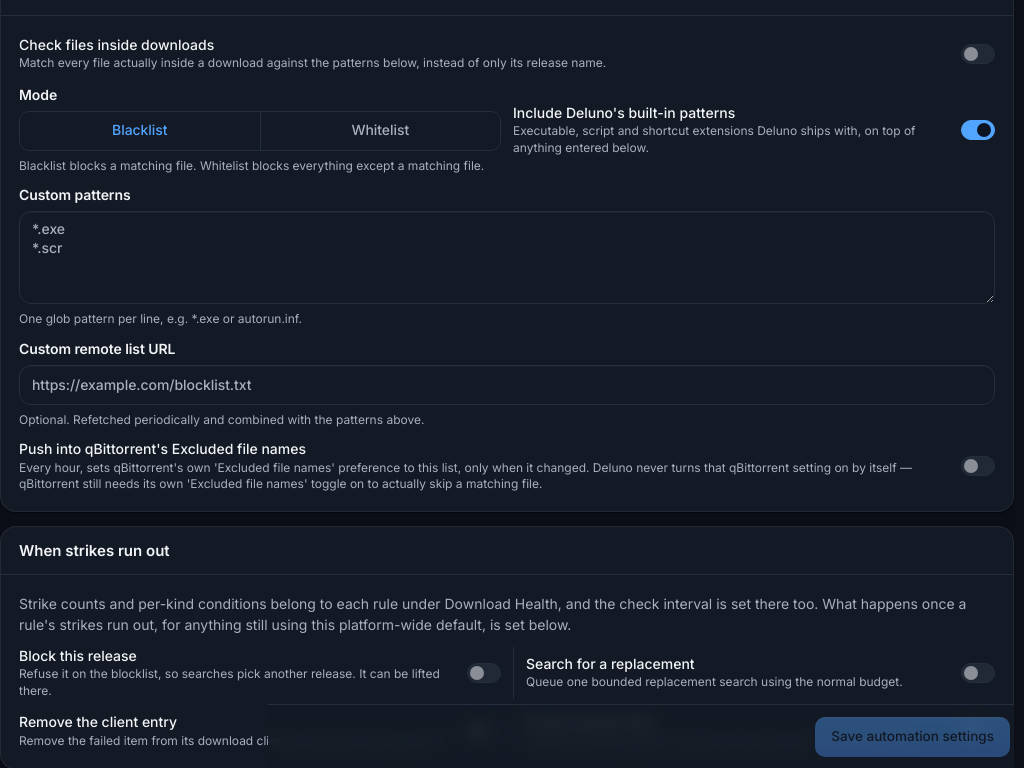
it: Custom remote list URL › is saved trimmed when an address is typed
The width and height of the screenshot is (1024, 768).
(page scrolled)
Type "  https://example.com/blocklist.txt  " into the field labelled "Custom remote list URL".
click(507, 385); type("  https://example.com/blocklist.txt  ")  # box [19, 365, 995, 405]
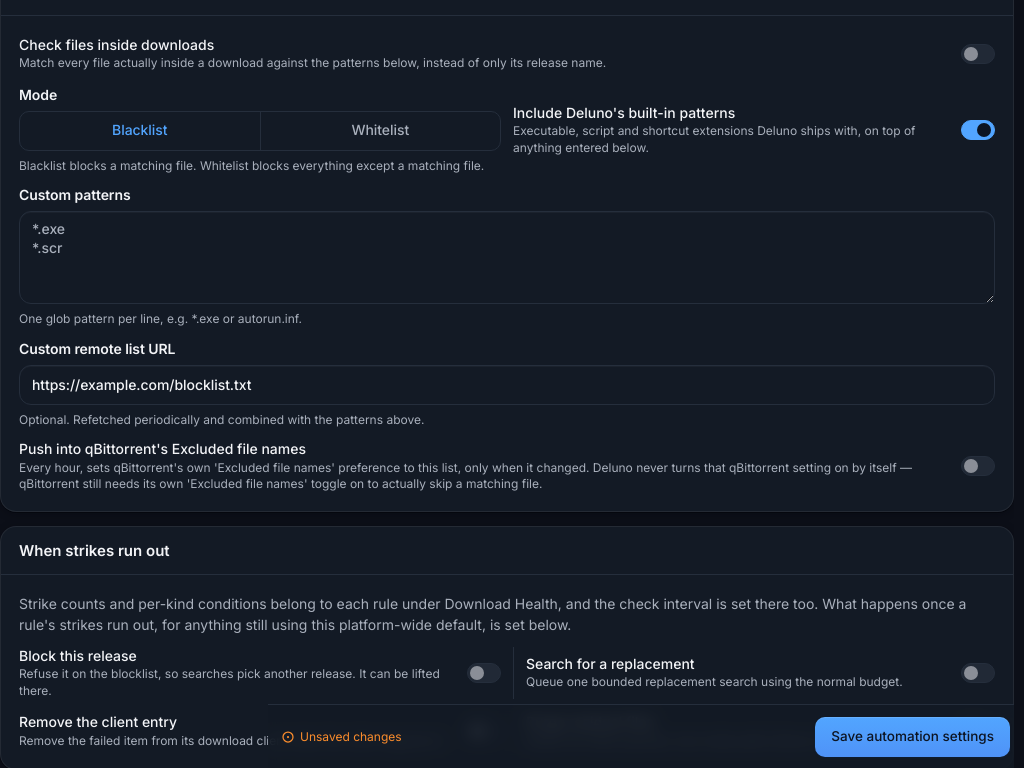
Click the button "Save automation settings".
click(913, 736)  # box [815, 716, 1010, 756]
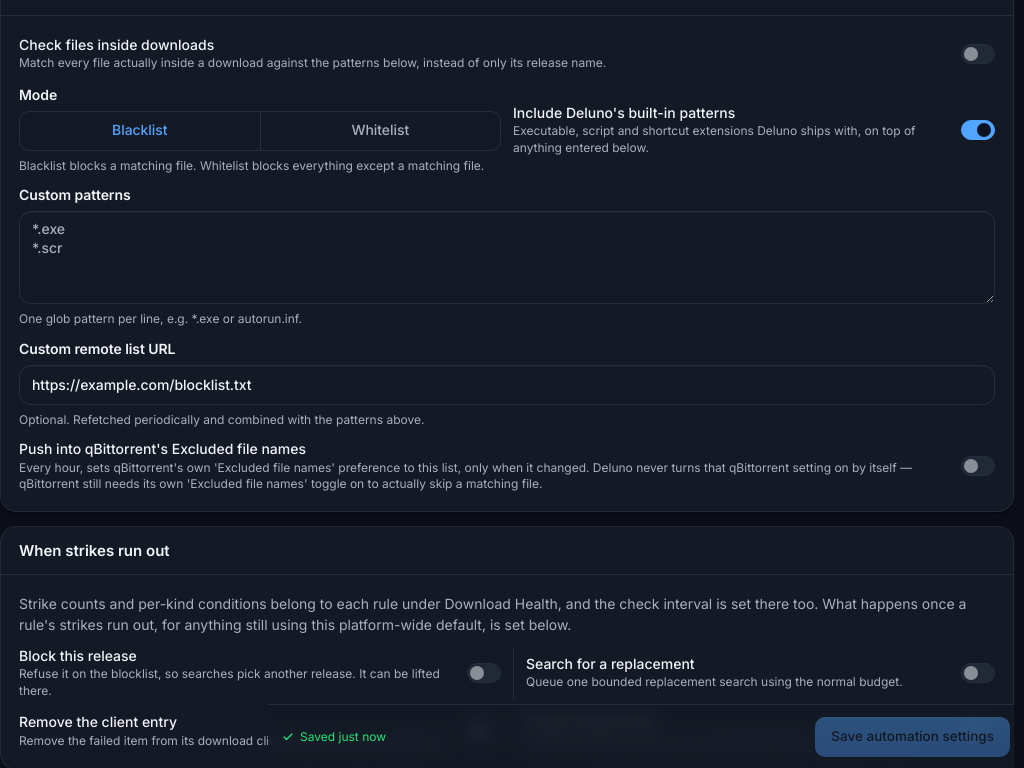
Expected: the text "Saved just now" is shown, [300, 728, 386, 746]
